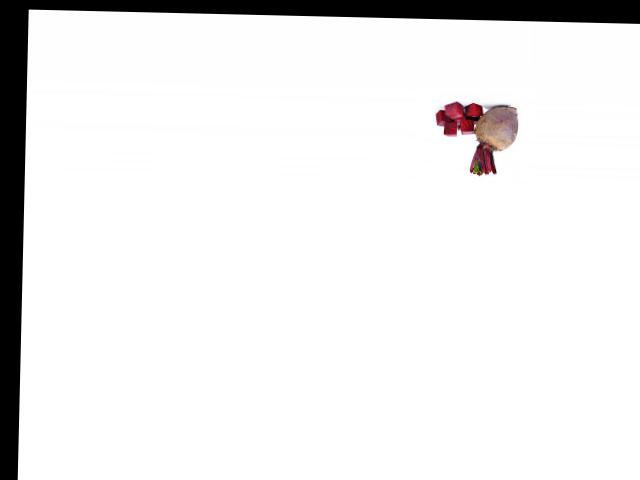beet: (469, 104, 518, 175)
